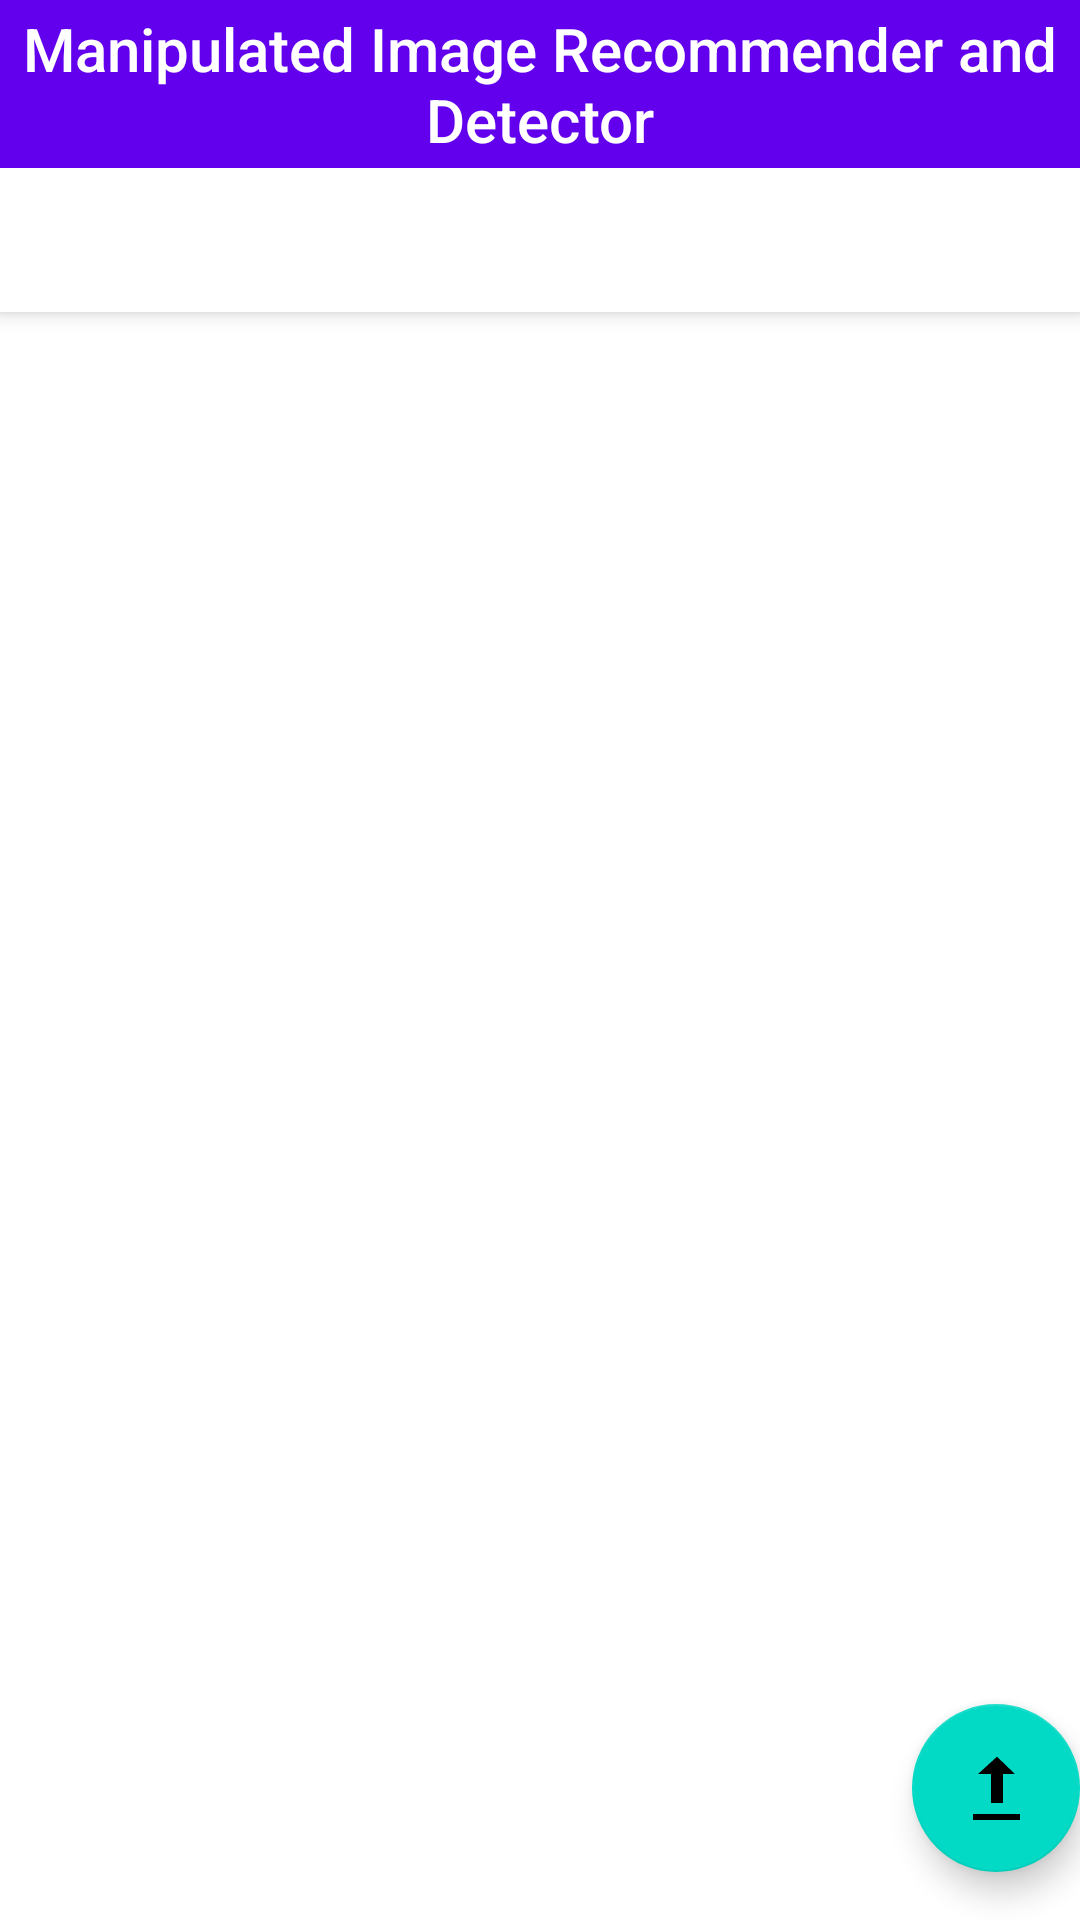

Icon click points for this 1080px×1920px phone screenshot, format [x,y]:
upload: [996,1788]
